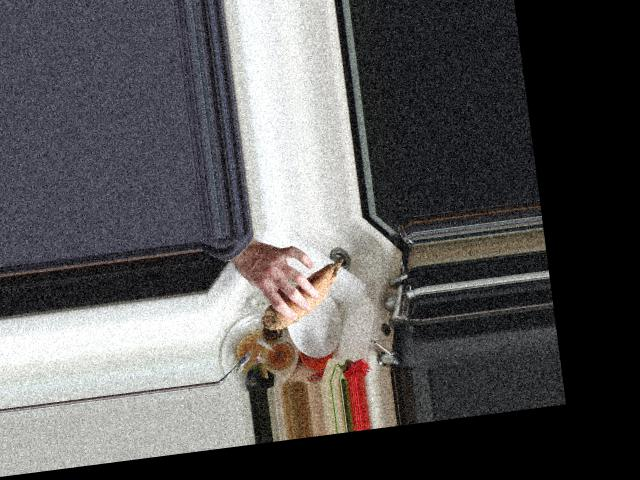sweet_potato: (256, 257, 351, 331)
